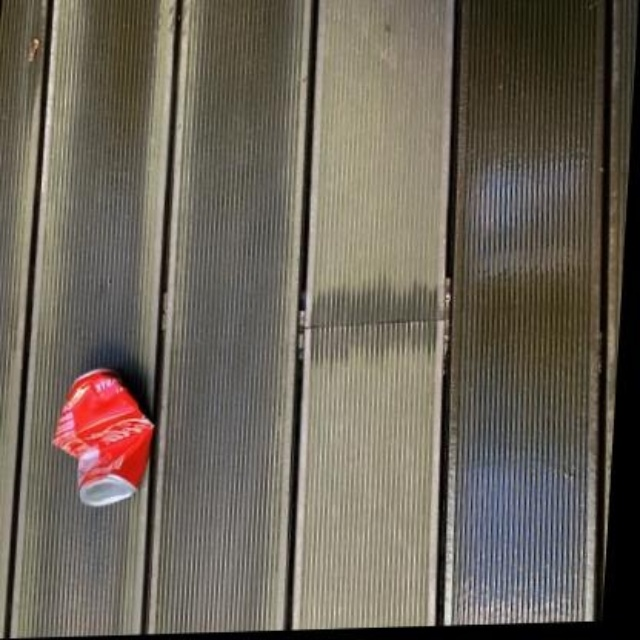trash: (54, 369, 152, 505)
